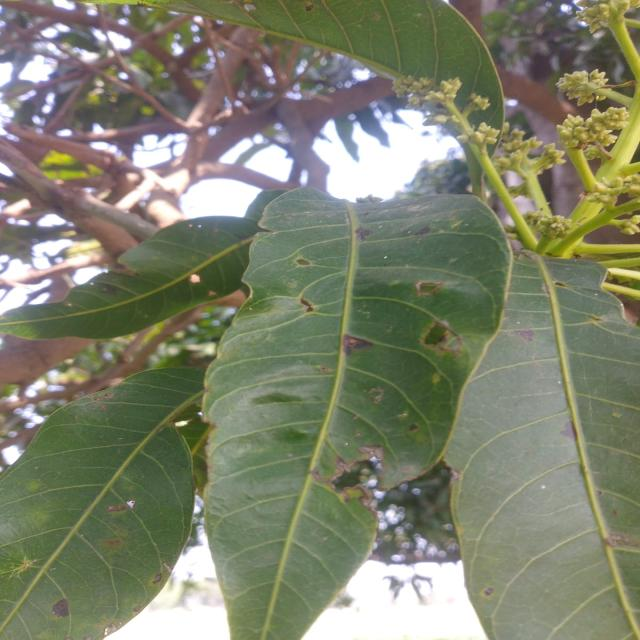Anthracnose: (342, 330, 367, 356), (355, 226, 370, 243)
